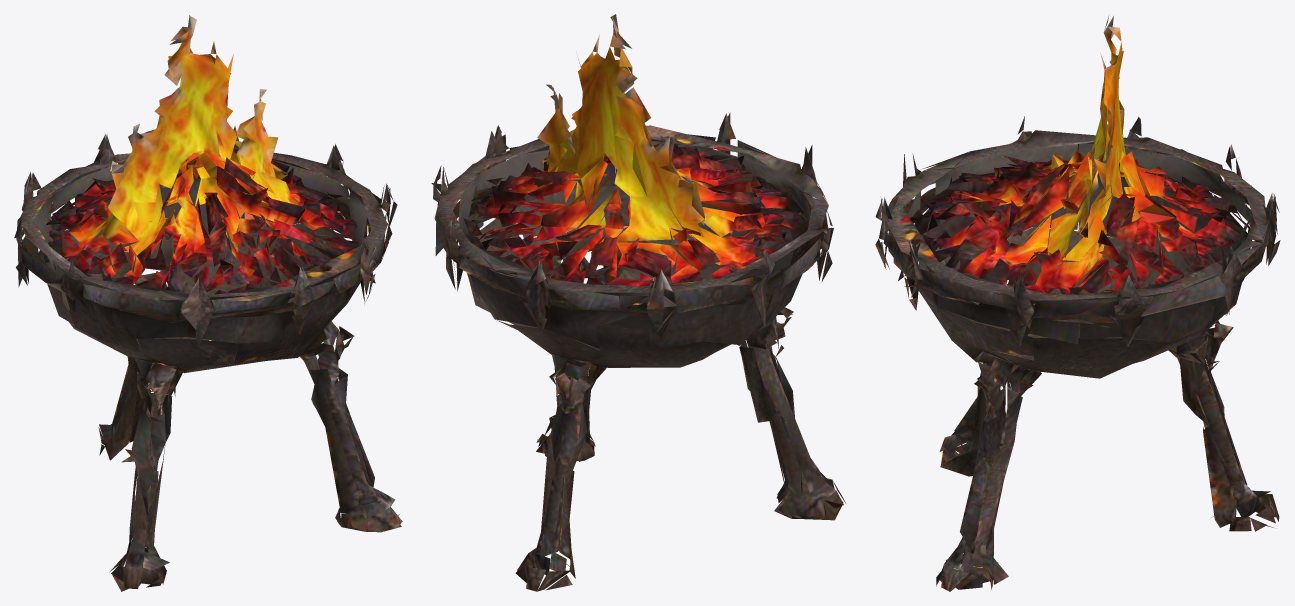
Rendered from braseiro_lod1.glb.
The picture shows the model from 3 angles, left to right: view 1: azimuth 30°, elevation 25°; view 2: azimuth 150°, elevation 25°; view 3: azimuth 270°, elevation 25°; orthographic projection. The views are drawn at different scales.
Visible parts, largest first — view 1: braseiro; view 2: braseiro; view 3: braseiro.
Boxes of the visible parts, x1,y1,x2,y2 form: braseiro: (14,15,402,591); braseiro: (431,14,845,591); braseiro: (875,16,1280,591).
Size of the model in its own units: 0.9845 by 1.41 by 1.
Materials: 1 (1 with a texture image).
